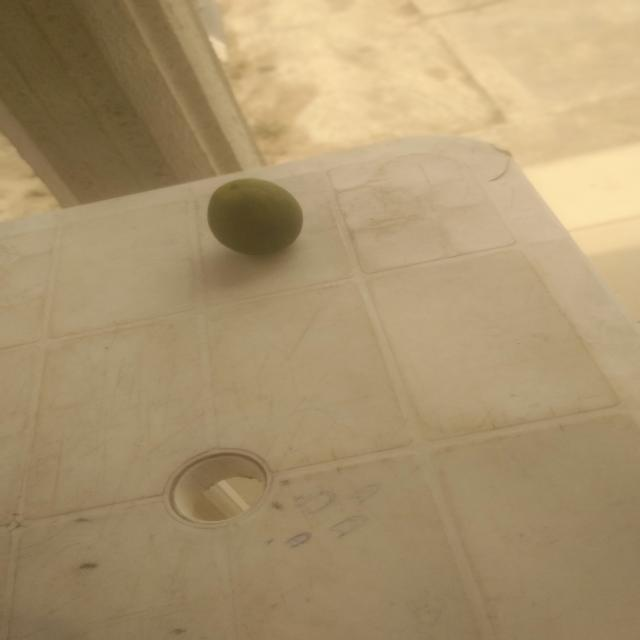Unripe: (196, 172, 309, 264)
